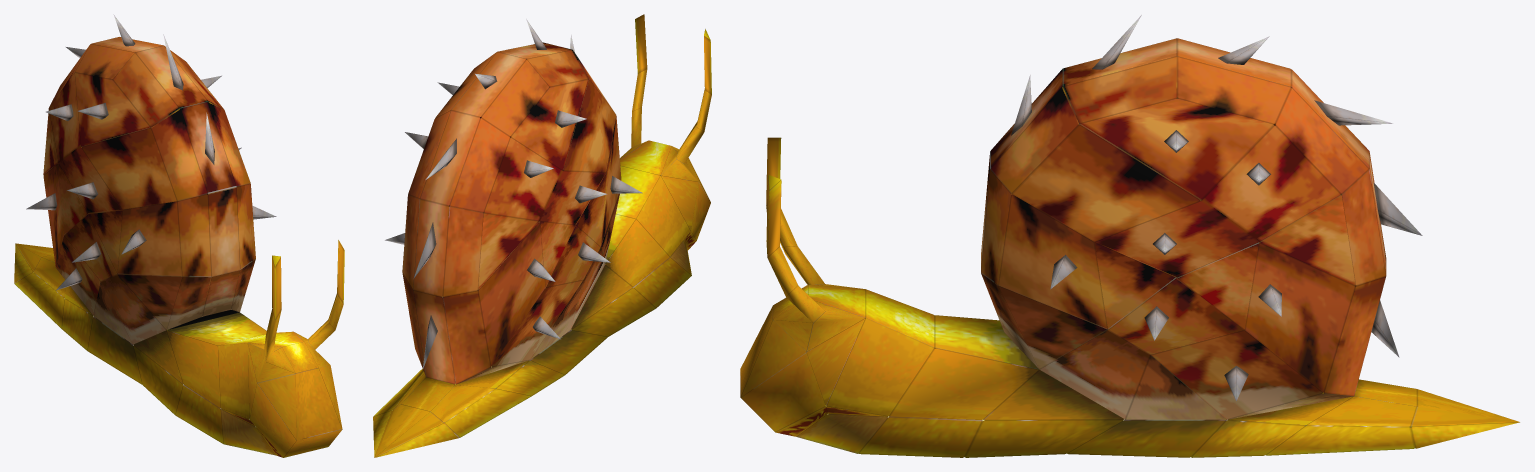
The picture shows the model from 3 angles, left to right: view 1: azimuth 30°, elevation 25°; view 2: azimuth 150°, elevation 25°; view 3: azimuth 270°, elevation 25°; orthographic projection. The views are drawn at different scales.
Parts seen in each view (by area): view 1: T1L8M005_5; view 2: T1L8M005_5; view 3: T1L8M005_5.
Part boxes in pixels (left/top/right/bottom): T1L8M005_5: left=14, top=14, right=344, bottom=457; T1L8M005_5: left=373, top=14, right=711, bottom=457; T1L8M005_5: left=740, top=15, right=1519, bottom=457.
Bounding box in the file's own units: 0.8838 × 1.53 × 2.64.
